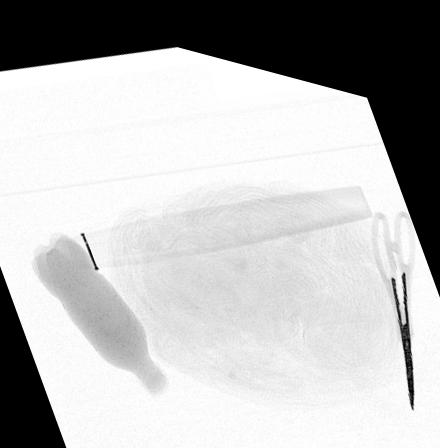Scissors: (369, 188, 418, 391)
